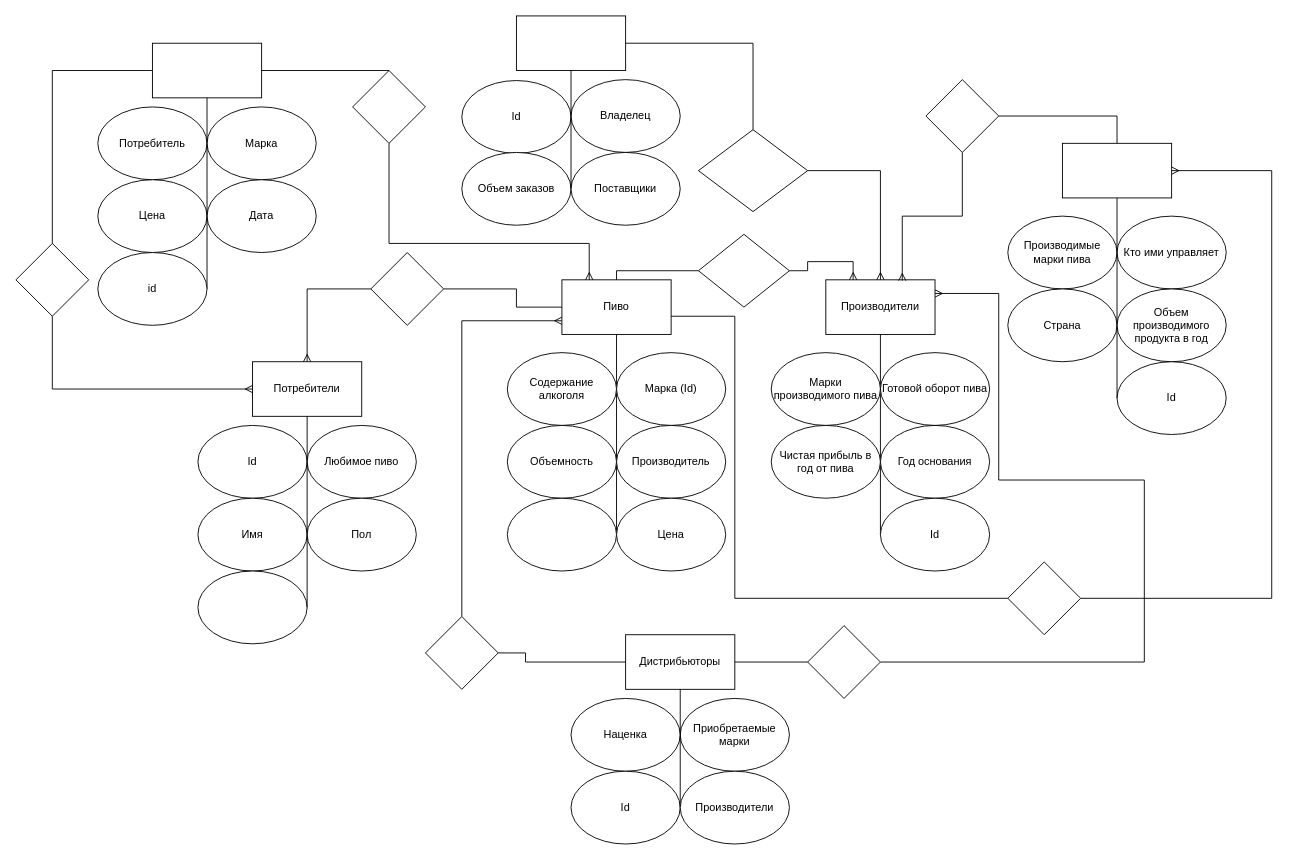
Image size: 1295x860. Some labels were removed from this diagram. The centre of each missing label's shape, as x and y in pixels:
"Владеют маркой" goes at pixel 743 270.
"Дата рождения" goes at pixel 252 607.
"Завод-производитель" goes at pixel 561 534.
"Заводы" goes at pixel 1117 170.
"Заказывают у" goes at pixel 753 170.
"История покупок пива" goes at pixel 207 70.
"Какое пиво" goes at pixel 388 106.
"Кто покупает" goes at pixel 52 279.
"Покупают" goes at pixel 843 661.
"Потрябляют" goes at pixel 407 288.
"Продают" goes at pixel 461 652.
"Производят" goes at pixel 1044 598.
"Рестораны заказчики" goes at pixel 571 43.
"Управляются" goes at pixel 962 115.
